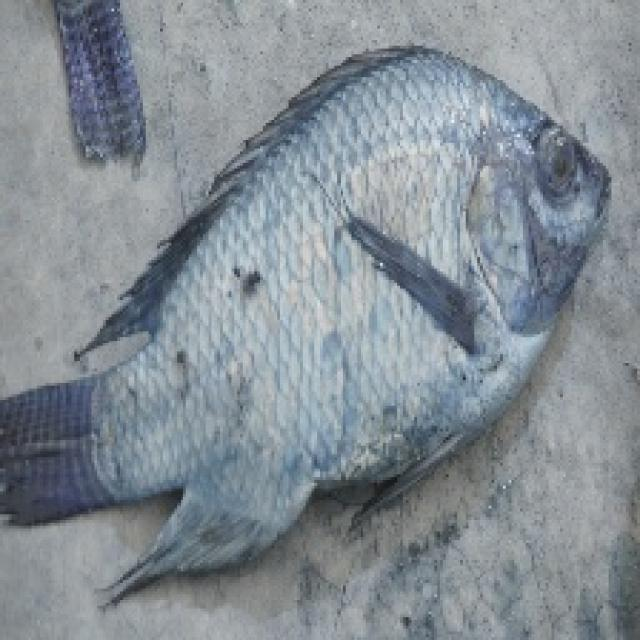Non-Fresh: (186, 32, 624, 456)
